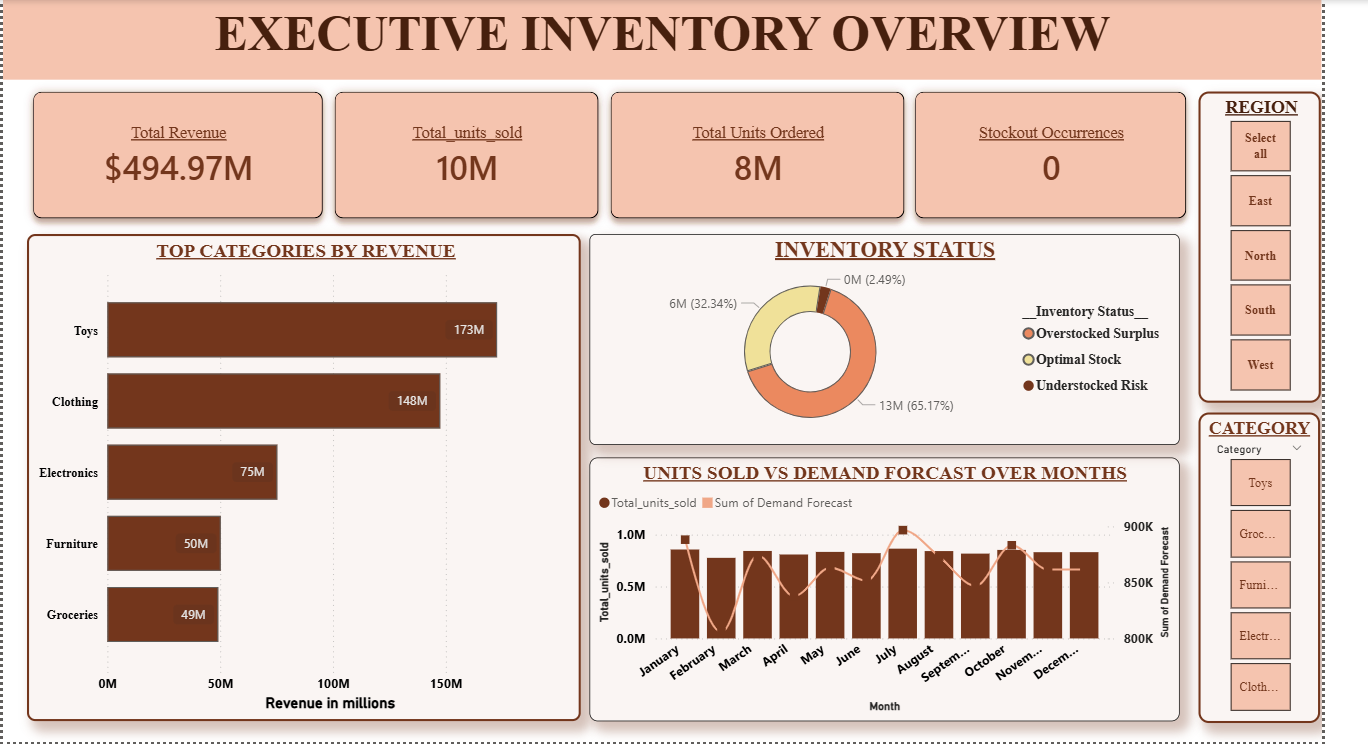

The dashboard page shown, as its layout file describes it:
{"tool":"powerbi","page":{"name":"Page 1","canvas":[1280,720],"ordinal":0},"visuals":[{"type":"cardVisual","title":"TOTAL REVENUE","fields":{"Data":["Measure.Total Revenue"]},"box":[0,59.1,339.2,181.7],"z":0},{"type":"cardVisual","title":"TOTAL","fields":{"Data":["Measure.Total_units_sold"]},"box":[292.2,59.1,315,181.7],"z":1000},{"type":"cardVisual","title":"TOTAL","fields":{"Data":["Measure.Total Units Ordered"]},"box":[560.3,59.1,343.7,181.7],"z":2000},{"type":"cardVisual","title":"TOTAL","fields":{"Data":["Measure.Stockout Occurrences"]},"box":[855.5,59.1,321,181.7],"z":3000},{"type":"clusteredBarChart","title":"TOP CATEGORIES BY REVENUE","fields":{"Category":["Dim_product.Category"],"Y":["Measure.Total Revenue"]},"box":[22.7,227.1,537.5,472.4],"z":4000},{"type":"lineStackedColumnComboChart","title":"UNITS SOLD VS DEMAND FORCAST OVER MONTHS","fields":{"Category":["Fact_inventory.Date.Variation.Date Hierarchy.Month"],"Y":["Measure.Total_units_sold"],"Y2":["Sum(Fact_inventory.Demand Forecast)"]},"box":[569.3,443.7,572.4,255.9],"z":5000},{"type":"slicer","title":"REGION","fields":{"Values":["Fact_inventory.Region"]},"box":[1160,88.3,118.3,301.7],"z":6000},{"type":"textbox","box":[0,0,1279.5,77.2],"z":7000},{"type":"donutChart","title":"INVENTORY STATUS","fields":{"Category":["Fact_inventory.Inventory Status"],"Y":["Sum(Fact_inventory.Inventory Level)"]},"box":[569.3,227.1,572.4,204.4],"z":8000},{"type":"slicer","title":"CATEGORY","fields":{"Values":["Fact_inventory.Category"]},"box":[1160,399.8,118,301],"z":9000}]}

Visuals, with their boxes on the page's 1280x720 design canvas (x1, y1, x2, y2). These are canvas units, not pixel positions in the 1368x745 screenshot, which may show the page scaled, cropped or inside an application window:
"TOTAL REVENUE" cardVisual: select_region(0, 59, 339, 241)
"TOTAL" cardVisual: select_region(292, 59, 607, 241)
"TOTAL" cardVisual: select_region(560, 59, 904, 241)
"TOTAL" cardVisual: select_region(856, 59, 1176, 241)
"TOP CATEGORIES BY REVENUE" clusteredBarChart: select_region(23, 227, 560, 700)
"UNITS SOLD VS DEMAND FORCAST OVER MONTHS" lineStackedColumnComboChart: select_region(569, 444, 1142, 700)
"REGION" slicer: select_region(1160, 88, 1278, 390)
textbox: select_region(0, 0, 1280, 77)
"INVENTORY STATUS" donutChart: select_region(569, 227, 1142, 432)
"CATEGORY" slicer: select_region(1160, 400, 1278, 701)
